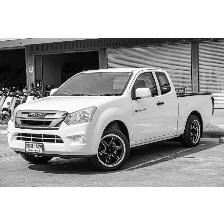NON-EV: (8, 64, 214, 172)
